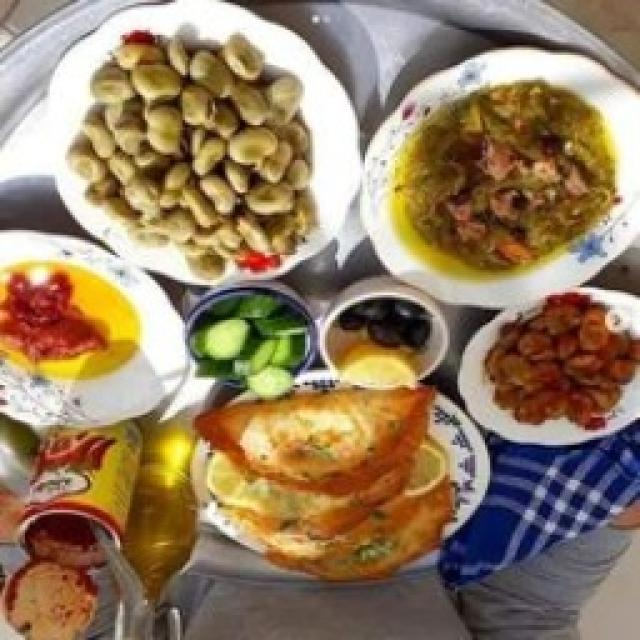Brik: (196, 388, 454, 580)
Harissa: (0, 274, 106, 364)
